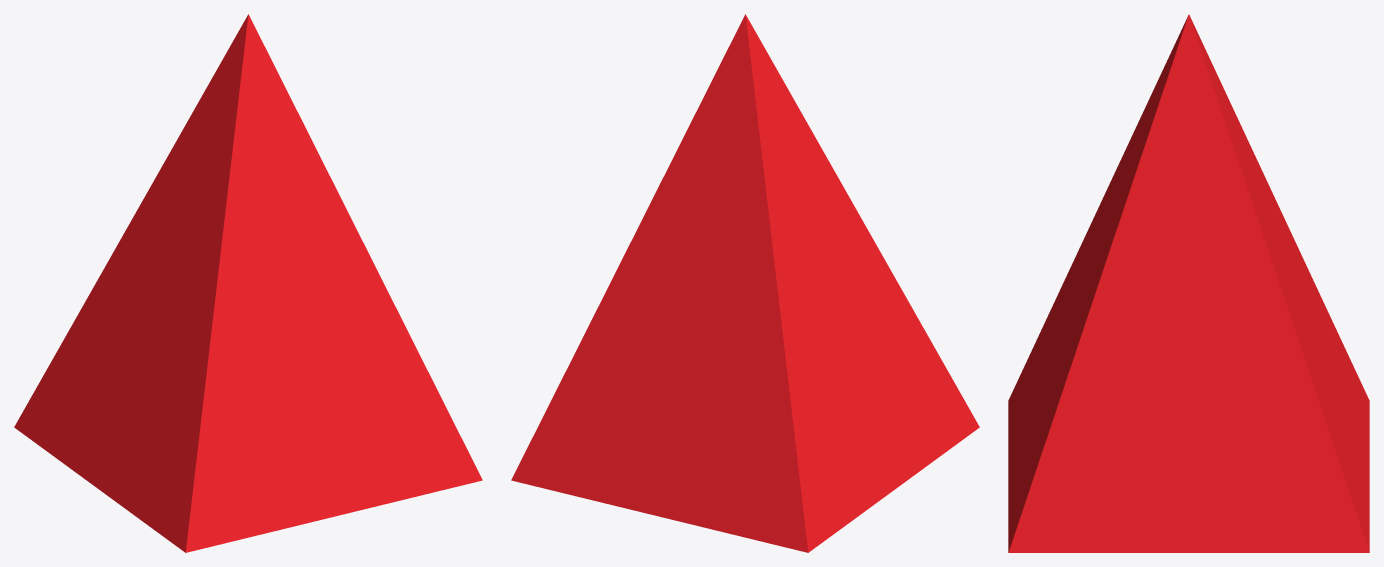
3 views of the same model, side by side, from view 1: azimuth 30°, elevation 25°; view 2: azimuth 150°, elevation 25°; view 3: azimuth 270°, elevation 25° (orthographic). The views are drawn at different scales.
Parts seen in each view (by area): view 1: mesh_id27; view 2: mesh_id27; view 3: mesh_id27.
Part boxes in pixels (<box>): mesh_id27: <box>14,14,482,552</box>; mesh_id27: <box>511,14,979,552</box>; mesh_id27: <box>1008,14,1369,552</box>.
Bounding box in the file's own units: 0.1414 × 0.2 × 0.1414.
Materials: 1 (1 with a texture image).
